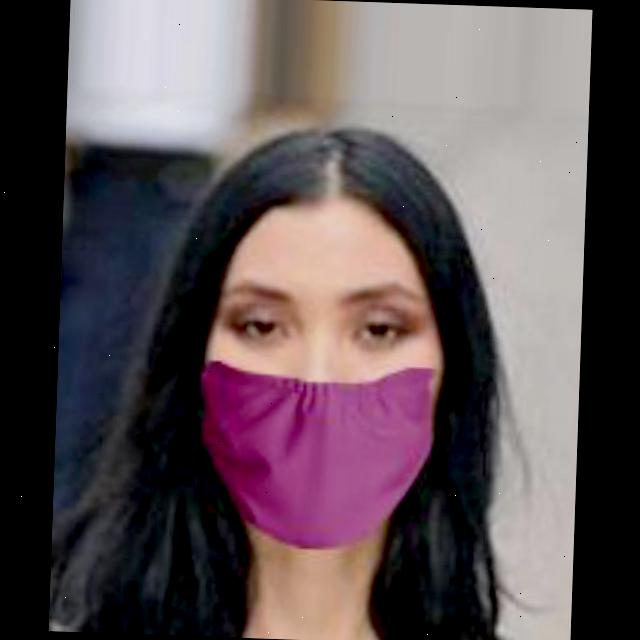suspicion: (174, 163, 471, 542)
